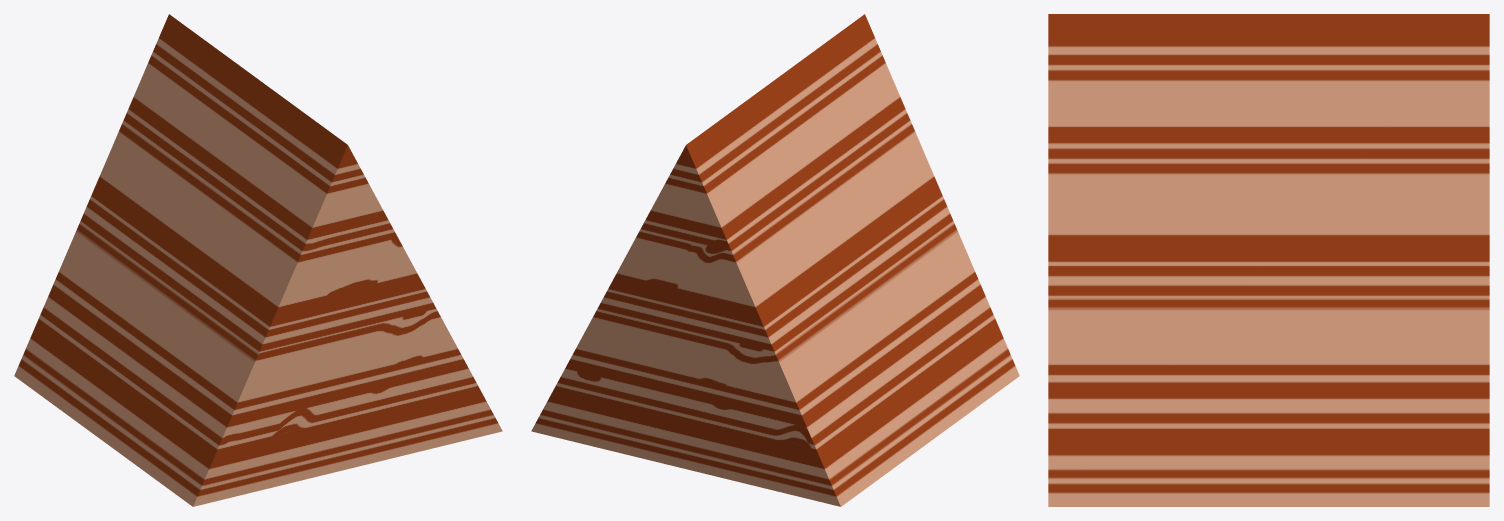
File: sanstoneTILE-2mx2m-MIDTRIANGLE.glb
3 renders of one model, left to right at view 1: azimuth 30°, elevation 25°; view 2: azimuth 150°, elevation 25°; view 3: azimuth 270°, elevation 25°, orthographic. The views are drawn at different scales.
Parts seen in each view (by area): view 1: Cube.003; view 2: Cube.003; view 3: Cube.003.
Boxes of the visible parts, x1=… form: Cube.003: x1=14, y1=14, x2=502, y2=506; Cube.003: x1=531, y1=14, x2=1019, y2=506; Cube.003: x1=1048, y1=14, x2=1489, y2=506.
Bounding box in the file's own units: 2 × 2 × 2.
1 material, 1 textured.
